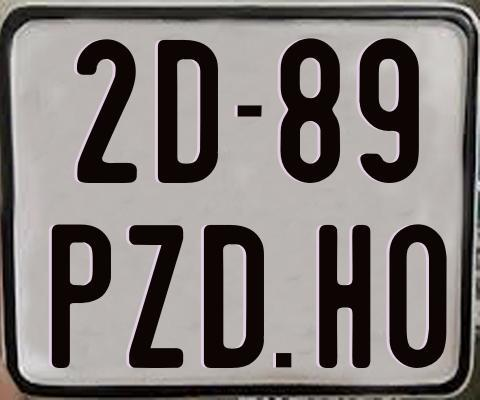0: (388, 222, 452, 372)
2: (74, 38, 140, 182)
8: (280, 37, 345, 184)
9: (357, 38, 418, 188)
D: (158, 40, 221, 186), (201, 224, 261, 370)
H: (316, 222, 370, 369)
P: (51, 223, 112, 372)
Z: (127, 223, 186, 371)
